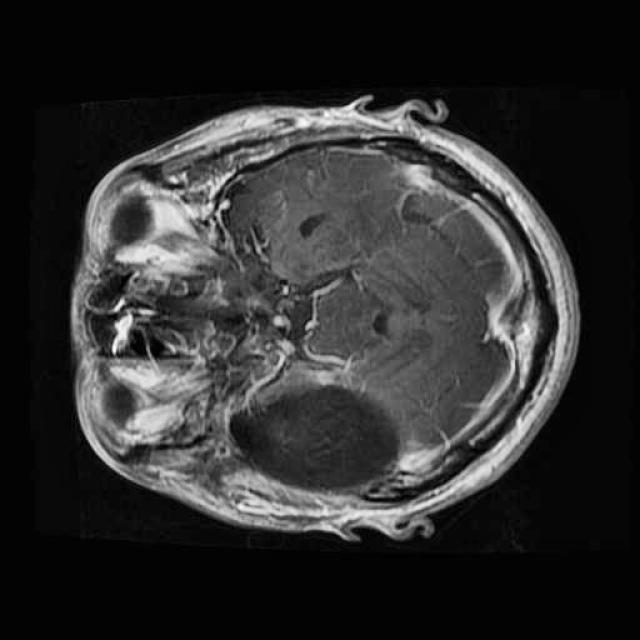Non-Tumor: (215, 369, 416, 510)
